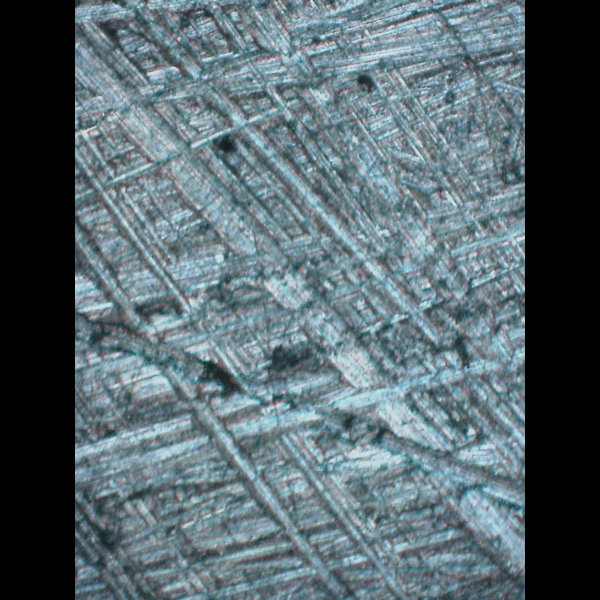d: (74, 97, 516, 599)
